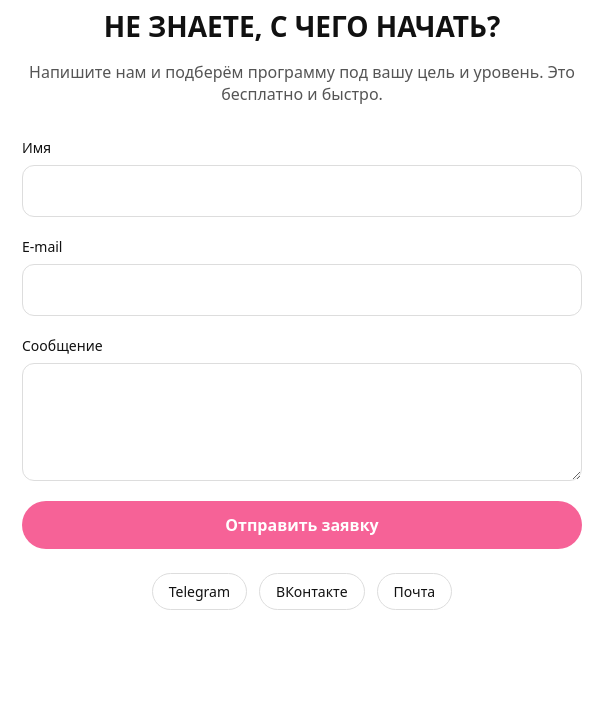
ContactForm › shows validation errors for empty submit
Click the button "Отправить заявку". click: (302, 525)
box: [22,501,582,549]
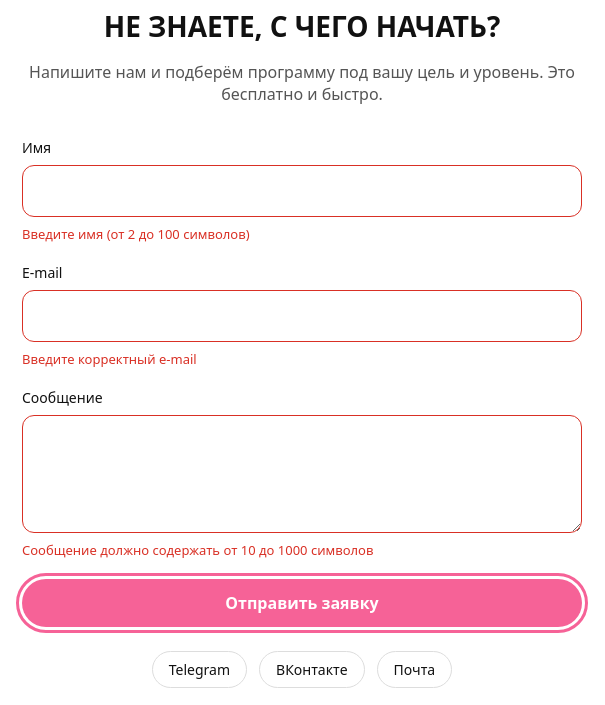
Expected: the text "Введите имя (от 2 до 100 символов)" is shown, [22,225,250,243]
Expected: the text "Введите корректный e-mail" is shown, [22,350,197,368]
